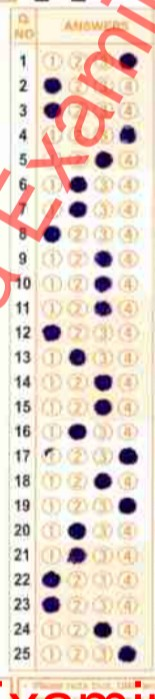filled circles: (119, 447, 138, 465), (94, 472, 112, 490), (119, 497, 137, 515), (94, 374, 113, 391), (93, 622, 112, 638), (68, 522, 85, 539), (95, 151, 112, 168), (42, 571, 60, 587), (42, 324, 60, 340), (68, 423, 86, 439), (94, 250, 112, 266), (118, 645, 136, 661), (68, 547, 86, 563), (120, 125, 136, 143), (44, 77, 61, 93), (94, 399, 111, 415), (42, 596, 59, 612), (69, 348, 85, 365), (120, 52, 136, 69), (69, 201, 86, 217), (44, 226, 60, 242), (70, 176, 86, 192), (94, 301, 111, 316), (94, 276, 110, 291), (44, 102, 59, 118), (95, 276, 111, 291)
